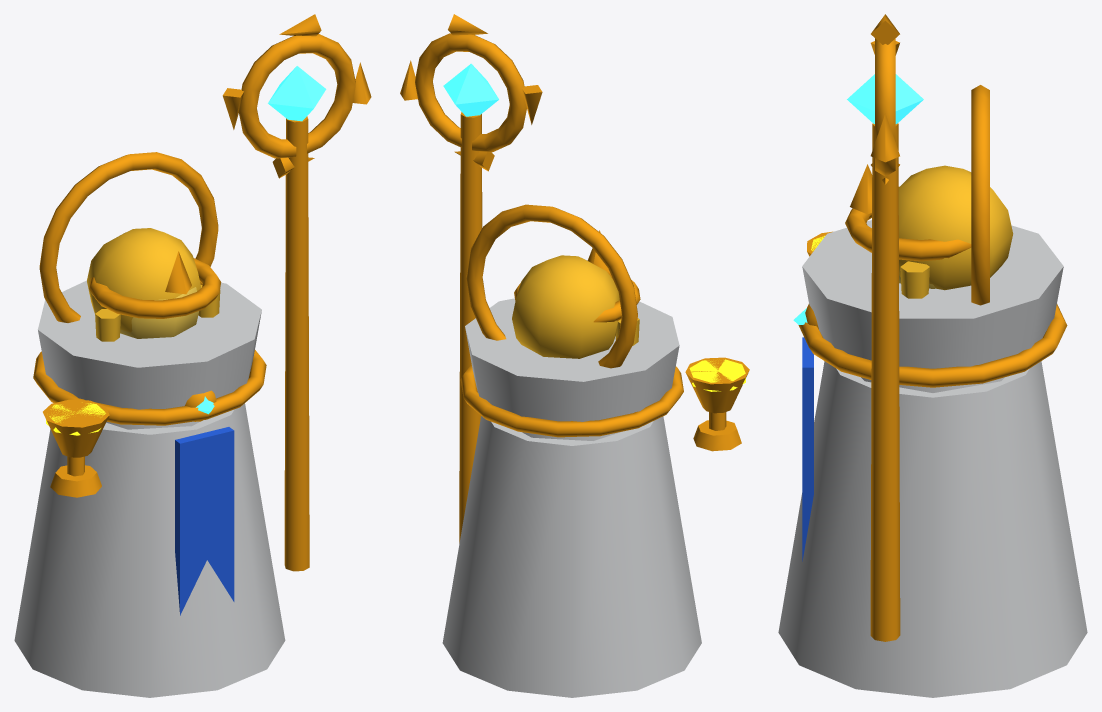
File: cleric.glb
3 views of the same model, side by side, from view 1: azimuth 30°, elevation 25°; view 2: azimuth 150°, elevation 25°; view 3: azimuth 270°, elevation 25° (orthographic). The views are drawn at different scales.
Visible parts, largest first — view 1: cleric; view 2: cleric; view 3: cleric.
Boxes of the visible parts, box(x1,y1,x2,y2) form: cleric: box(14, 14, 371, 697); cleric: box(400, 14, 749, 697); cleric: box(778, 14, 1087, 697).
Size of the model in its own units: 0.76 by 1.28 by 0.52.
